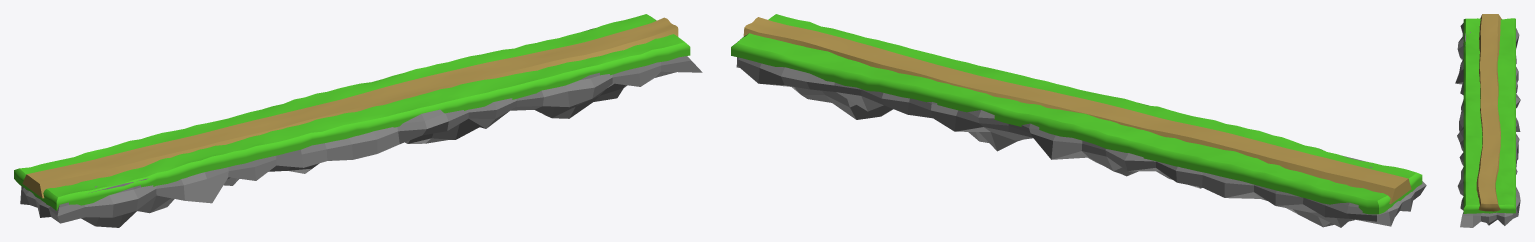
Rendered from Island_02.fbx.
The picture shows the model from 3 angles, left to right: view 1: azimuth 30°, elevation 25°; view 2: azimuth 150°, elevation 25°; view 3: azimuth 270°, elevation 25°; orthographic projection. The views are drawn at different scales.
Visible parts, largest first — view 1: Box003, Box001, Box004; view 2: Box003, Box001, Box004; view 3: Box003, Box004, Box001.
Boxes of the visible parts, bbox=[...] form: Box003: bbox=[14, 14, 690, 210]; Box001: bbox=[20, 56, 702, 227]; Box004: bbox=[22, 17, 678, 198]; Box003: bbox=[731, 14, 1422, 214]; Box001: bbox=[736, 57, 1426, 227]; Box004: bbox=[743, 17, 1411, 204]; Box003: bbox=[1463, 18, 1515, 213]; Box004: bbox=[1476, 14, 1501, 211]; Box001: bbox=[1455, 23, 1520, 227].
Bounding box in the file's own units: 540 × 56.82 × 77.34.
